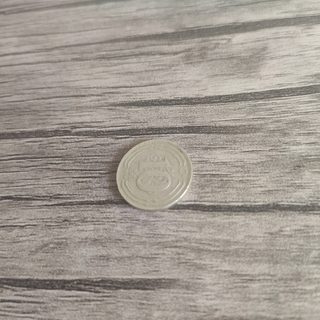10KURUS: (114, 135, 194, 213)
